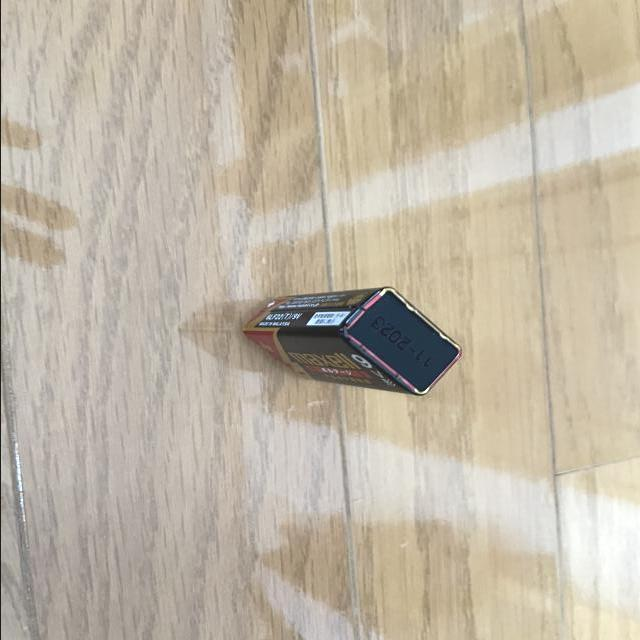9V: (242, 286, 460, 397)
